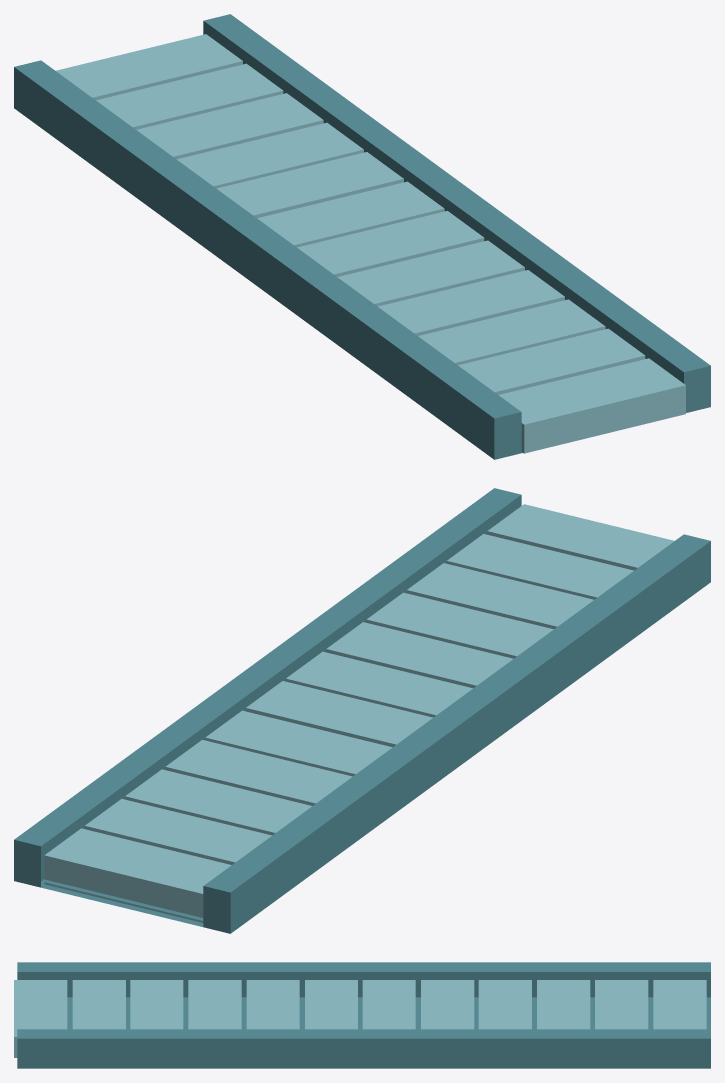
The model's file is drawbridge.fbx.
3 views of the same model, one above another, from view 1: azimuth 30°, elevation 25°; view 2: azimuth 150°, elevation 25°; view 3: azimuth 270°, elevation 25° (orthographic). The views are drawn at different scales.
Parts seen in each view (by area): view 1: Cube, Cube_2_2, Cube_1, Cube_7, Cube_11, Cube_5, Cube_9, Cube_3, Cube_10, Cube_4, Cube_6, Cube_2 (+1 smaller); view 2: Cube, Cube_11, Cube_2_2, Cube_6, Cube_4, Cube_10, Cube_8, Cube_2, Cube_3, Cube_9, Cube_5, Cube_7 (+1 smaller); view 3: Cube, Cube_2_2, Cube_11, Cube_3, Cube_10, Cube_9, Cube_8, Cube_7, Cube_6, Cube_4, Cube_2, Cube_1 (+1 smaller).
Part boxes in pixels (<box>): Cube: <box>14,14,710,459</box>; Cube_2_2: <box>499,358,685,453</box>; Cube_1: <box>458,328,645,394</box>; Cube_7: <box>216,152,403,217</box>; Cube_11: <box>55,34,242,100</box>; Cube_5: <box>297,211,484,276</box>; Cube_9: <box>136,93,323,159</box>; Cube_3: <box>378,270,564,335</box>; Cube_10: <box>96,63,283,129</box>; Cube_4: <box>337,240,524,306</box>; Cube_6: <box>257,181,444,247</box>; Cube_2: <box>418,299,605,364</box>; Cube: <box>14,488,710,933</box>; Cube_11: <box>44,828,231,922</box>; Cube_2_2: <box>487,504,674,570</box>; Cube_6: <box>246,681,432,747</box>; Cube_4: <box>326,622,513,688</box>; Cube_10: <box>84,799,271,864</box>; Cube_8: <box>165,740,352,805</box>; Cube_2: <box>406,563,593,629</box>; Cube_3: <box>366,592,553,658</box>; Cube_9: <box>125,769,312,835</box>; Cube_5: <box>285,651,472,717</box>; Cube_7: <box>205,710,392,776</box>; Cube: <box>17,962,710,1068</box>; Cube_2_2: <box>14,980,67,1057</box>; Cube_11: <box>653,980,706,1029</box>; Cube_3: <box>188,980,241,1029</box>; Cube_10: <box>595,980,648,1029</box>; Cube_9: <box>537,980,590,1029</box>; Cube_8: <box>478,980,531,1029</box>; Cube_7: <box>421,980,474,1029</box>; Cube_6: <box>362,980,415,1029</box>; Cube_4: <box>246,980,299,1029</box>; Cube_2: <box>130,980,183,1029</box>; Cube_1: <box>72,980,125,1029</box>.
Bounding box in the file's own units: 192 × 35.06 × 742.
